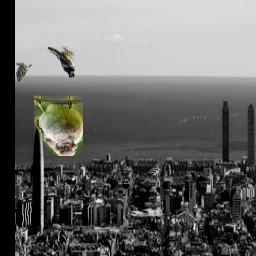Sparrow: (35, 96, 84, 156), (15, 62, 32, 82)
Swallow: (41, 47, 76, 79)
